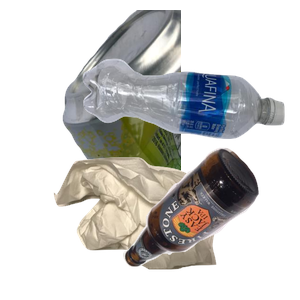glass: (120, 145, 300, 300)
metal: (60, 10, 300, 190)
plastic: (80, 56, 300, 187)
trash: (51, 155, 261, 300)
